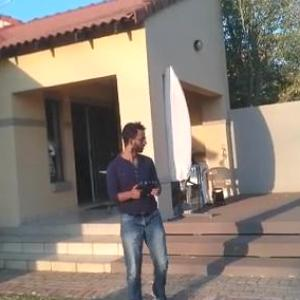follow: (105, 119, 179, 299)
